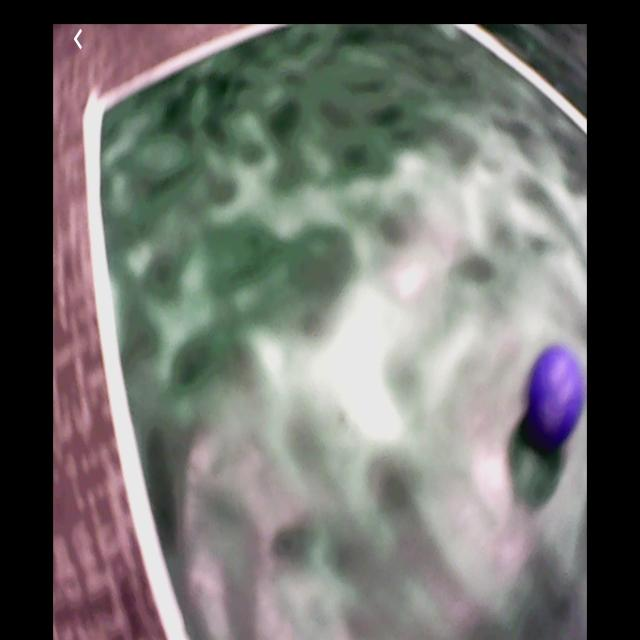ball: (527, 348, 584, 444)
